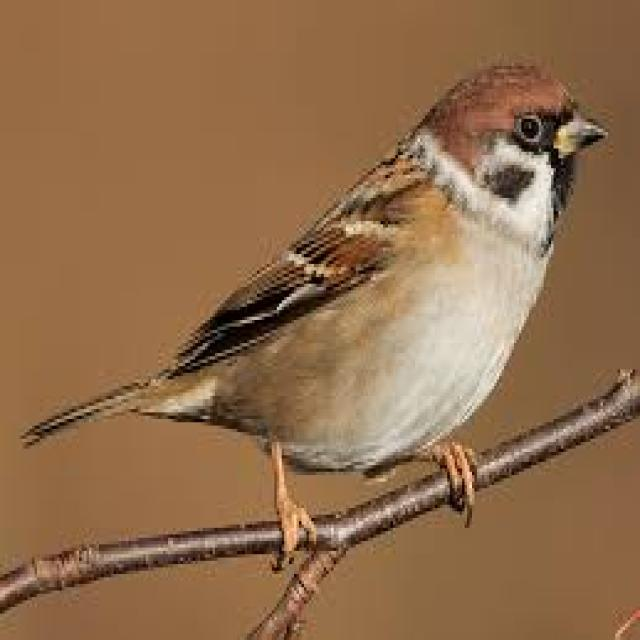Sparrow: (39, 62, 604, 559)
